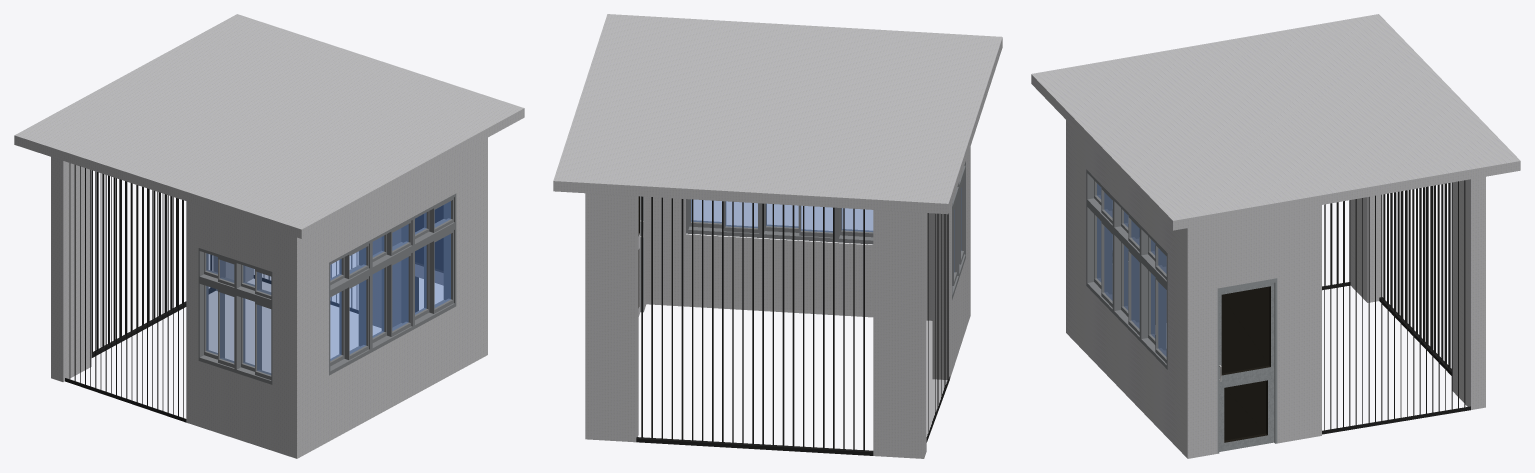
3 renders of one model, left to right at view 1: azimuth 30°, elevation 25°; view 2: azimuth 150°, elevation 25°; view 3: azimuth 270°, elevation 25°, orthographic. The views are drawn at different scales.
Visible parts, largest first — view 1: T棟, 行政W4#1 (×5); view 2: T棟, 行政W4#1 (×5); view 3: T棟, 行政W4#1 (×3).
Part boxes in pixels (x1,y1,x2,y2): T棟: (14,14,524,458); 行政W4#1 (×5): (198,193,456,384); T棟: (553,14,1002,458); 行政W4#1 (×5): (686,161,965,299); T棟: (1031,14,1520,458); 行政W4#1 (×3): (1086,169,1167,369).
Bounding box in the file's own units: 4.56 × 2.6 × 4.56.
8 materials, 5 textured.
